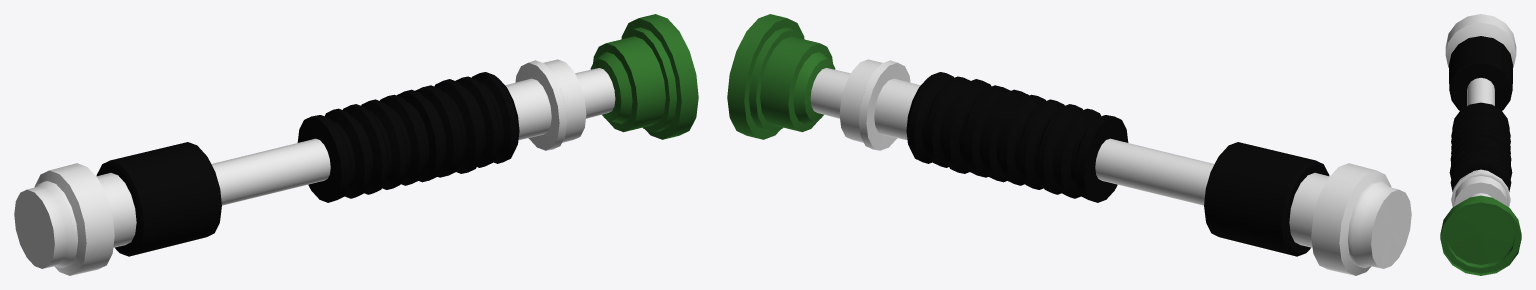
File: lightSaber.fbx
3 renders of one model, left to right at view 1: azimuth 30°, elevation 25°; view 2: azimuth 150°, elevation 25°; view 3: azimuth 270°, elevation 25°, orthographic. The views are drawn at different scales.
Parts seen in each view (by area): view 1: Impugnatura; view 2: Impugnatura; view 3: Impugnatura.
Boxes of the visible parts, x1,y1,x2,y2 form: Impugnatura: (14, 14, 698, 275); Impugnatura: (727, 14, 1411, 275); Impugnatura: (1440, 14, 1521, 275).
Bounding box in the file's own units: 118 × 20 × 20.
